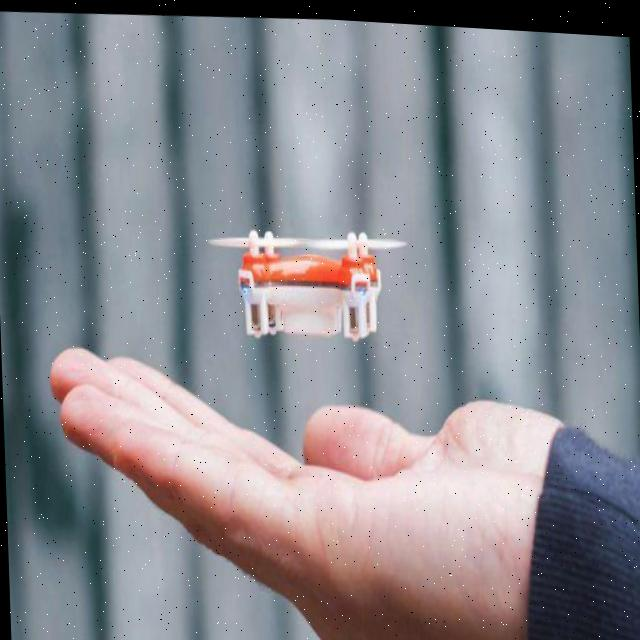drone: (194, 201, 420, 362)
